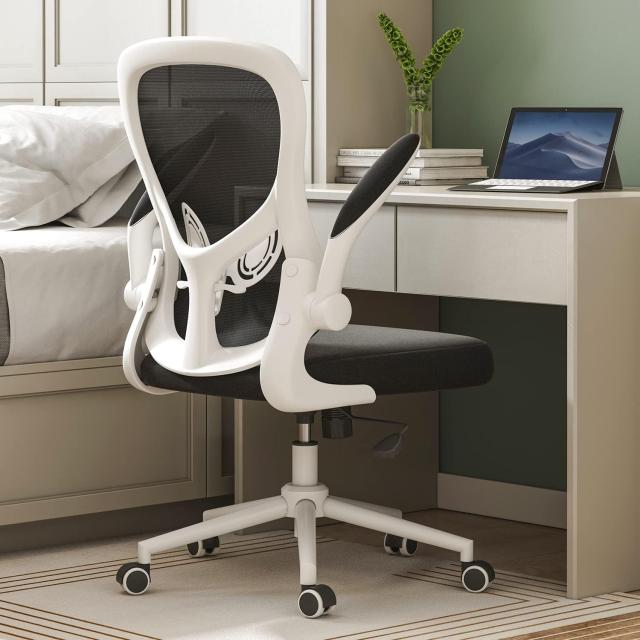chair: (38, 3, 500, 640)
